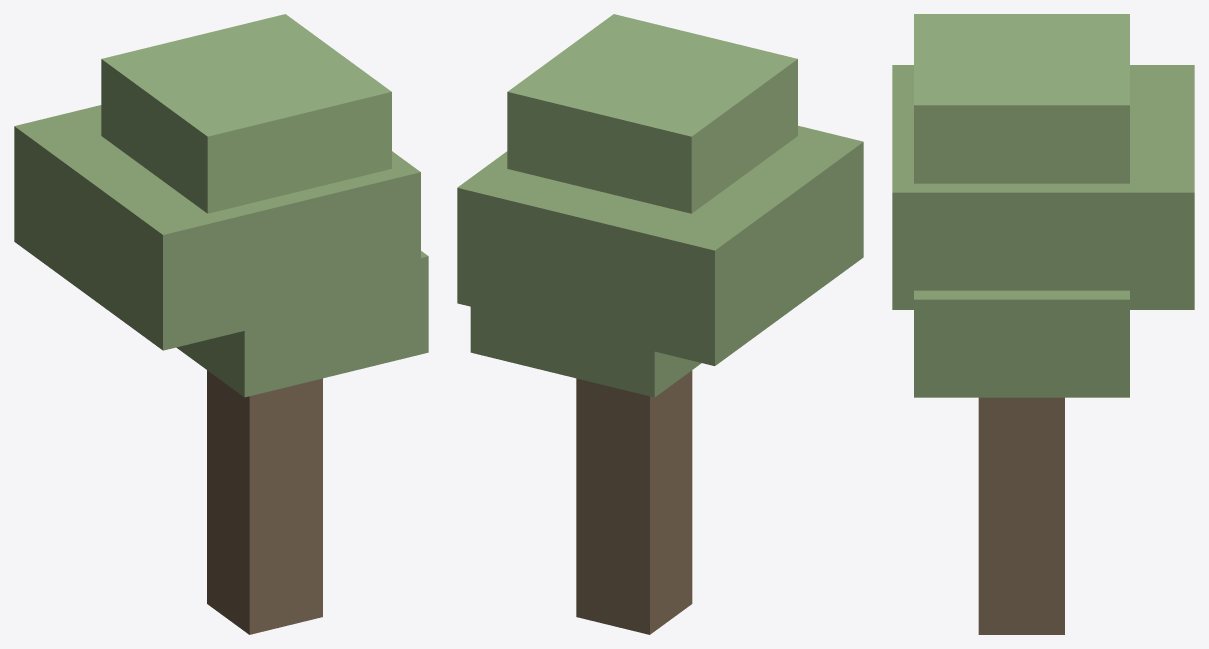
File: manzano_silvestre_02.glb
The picture shows the model from 3 angles, left to right: view 1: azimuth 30°, elevation 25°; view 2: azimuth 150°, elevation 25°; view 3: azimuth 270°, elevation 25°; orthographic projection.
Parts seen in each view (by area): view 1: manzano_silvestre_02; view 2: manzano_silvestre_02; view 3: manzano_silvestre_02.
Part boxes in pixels (x1,y1,x2,y2): manzano_silvestre_02: (14,14,428,634); manzano_silvestre_02: (457,14,863,634); manzano_silvestre_02: (892,14,1194,634).
Size of the model in its own units: 1.5 by 2.8 by 1.4.
